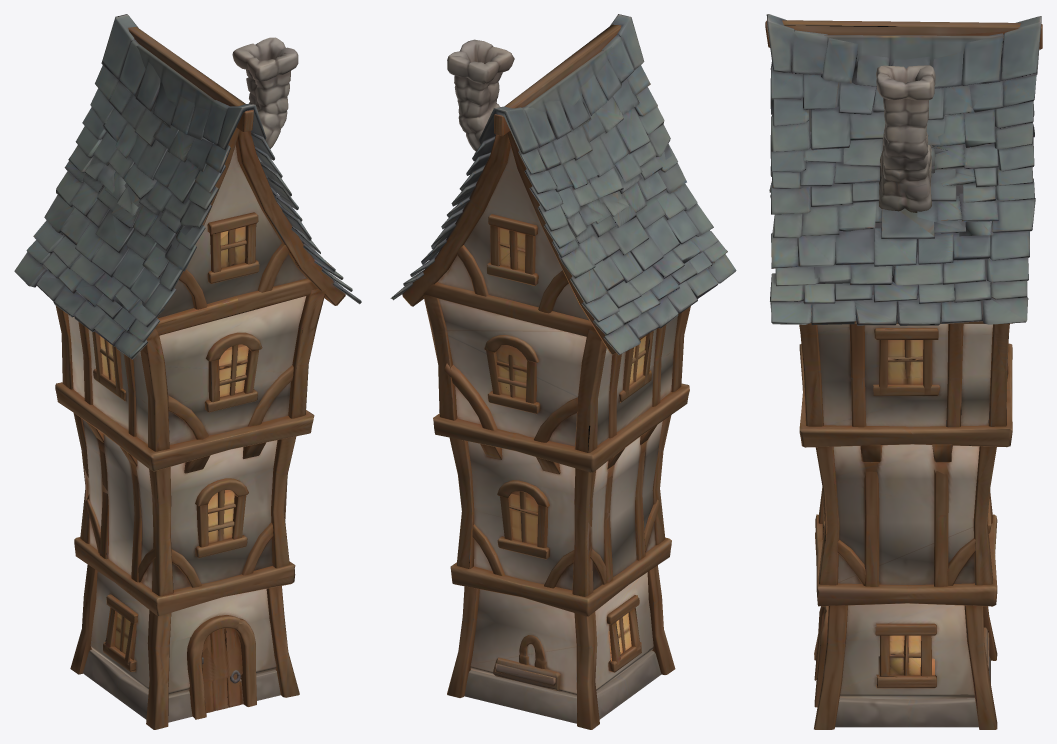
The model's file is house_tall.glb.
3 renders of one model, left to right at view 1: azimuth 30°, elevation 25°; view 2: azimuth 150°, elevation 25°; view 3: azimuth 270°, elevation 25°, orthographic. The views are drawn at different scales.
Parts seen in each view (by area): view 1: geometry_0; view 2: geometry_0; view 3: geometry_0.
Part boxes in pixels (box(x1,y1,x2,y2)): geometry_0: box(14, 14, 361, 729); geometry_0: box(390, 14, 736, 729); geometry_0: box(765, 14, 1042, 729).
Bounding box in the file's own units: 0.3774 × 0.9512 × 0.355.
Materials: 1 (1 with a texture image).
